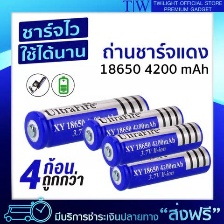battery: (22, 93, 152, 153), (97, 118, 205, 170), (79, 102, 189, 153), (100, 143, 211, 192)
